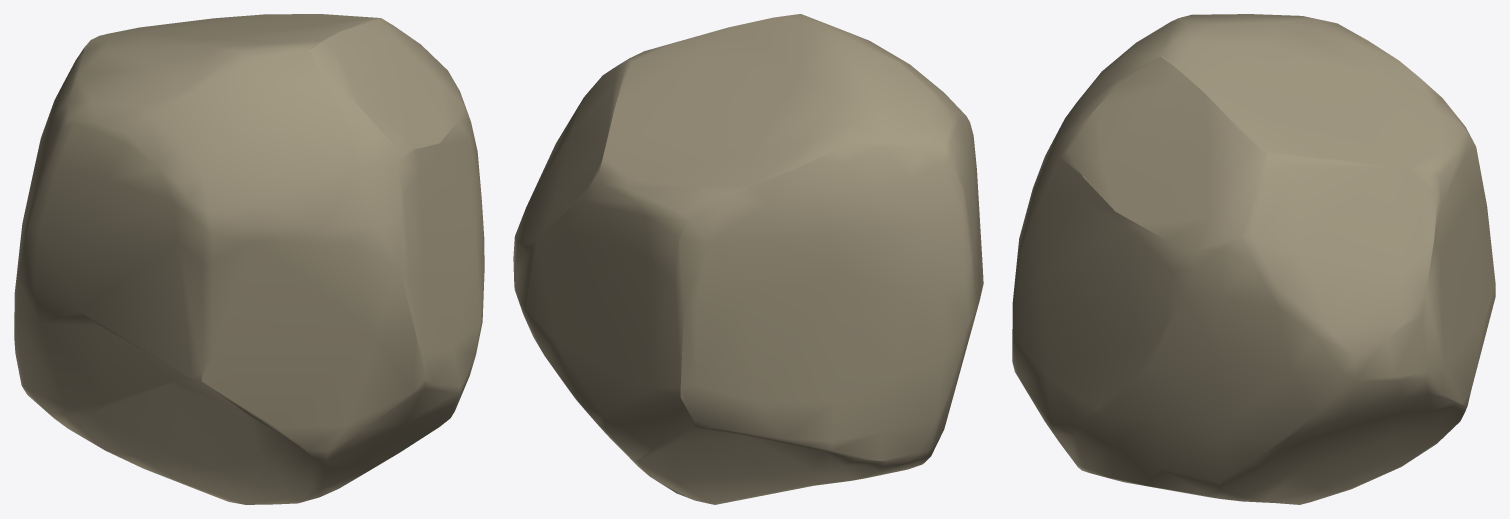
The model's file is rock-3.glb.
3 renders of one model, left to right at view 1: azimuth 30°, elevation 25°; view 2: azimuth 150°, elevation 25°; view 3: azimuth 270°, elevation 25°, orthographic. The views are drawn at different scales.
Parts seen in each view (by area): view 1: Environment_Rock_5; view 2: Environment_Rock_5; view 3: Environment_Rock_5.
Part boxes in pixels (x1,y1,x2,y2): Environment_Rock_5: (14,14,484,504); Environment_Rock_5: (513,14,983,504); Environment_Rock_5: (1012,14,1495,504).
Size of the model in its own units: 0.6053 by 0.6046 by 0.5856.
Materials: 1 (1 with a texture image).
